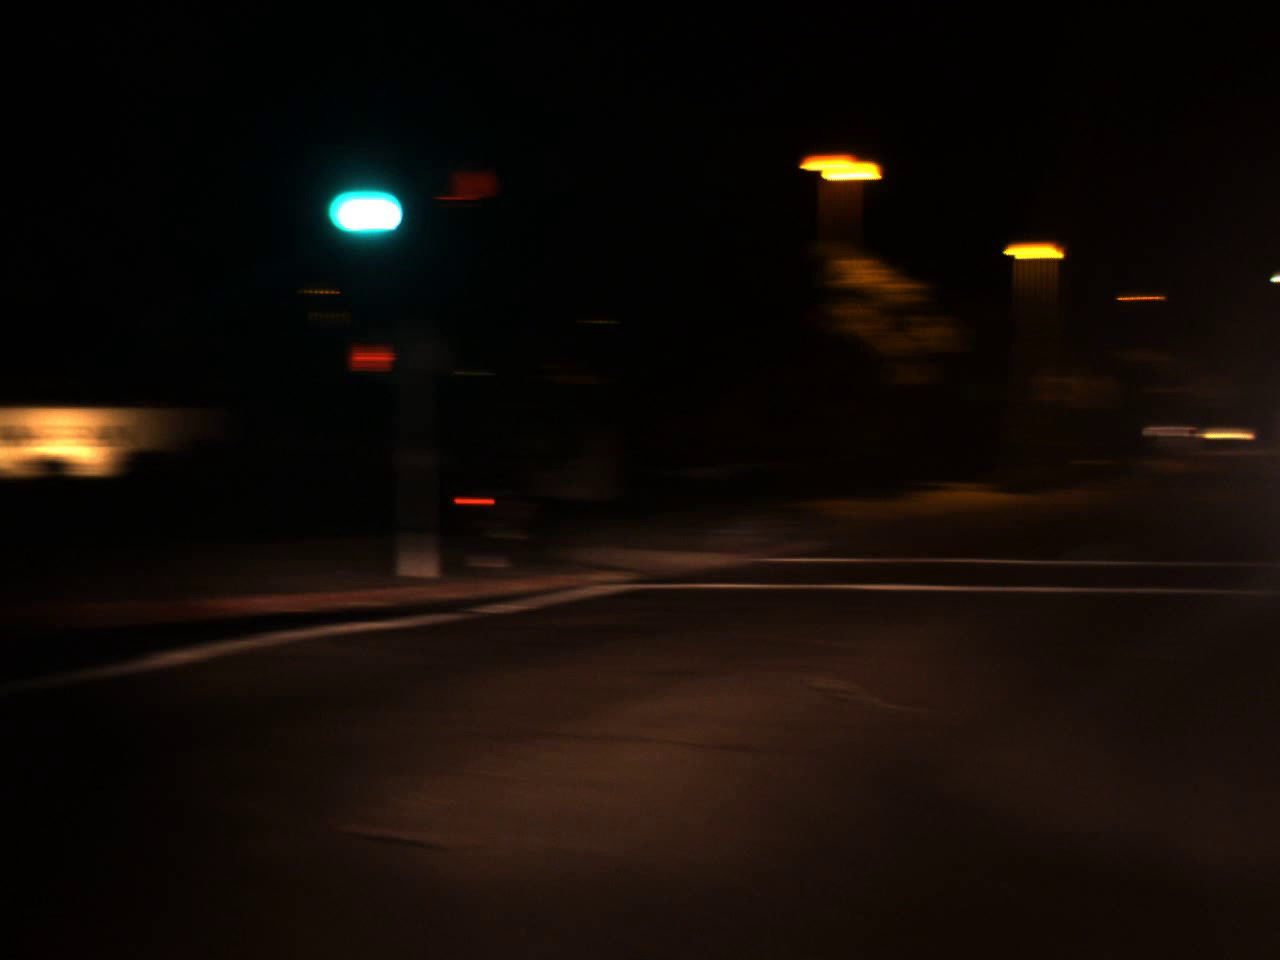go: (315, 123, 408, 252)
